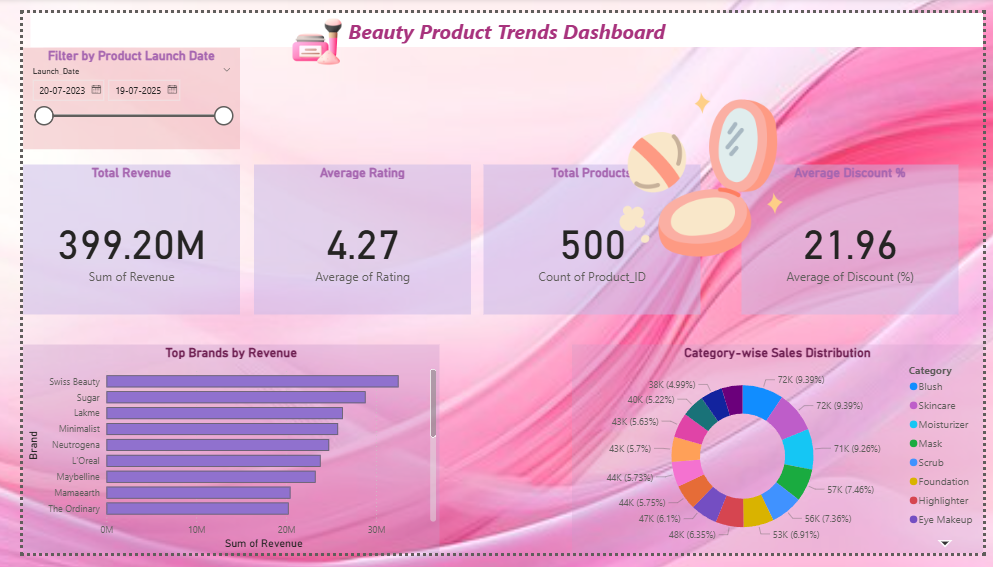

Layout of this report page (visuals, bound fields, positions):
{"tool":"powerbi","page":{"name":"Page 1","canvas":[1280,720],"ordinal":0},"visuals":[{"type":"textbox","box":[9.4,0,1269.9,45.4],"z":1},{"type":"slicer","title":"Filter by Product Launch Date","fields":{"Values":["beauty_products_500.Launch_Date"]},"box":[0,45.4,289.1,136.1],"z":2},{"type":"card","title":"Total Revenue","fields":{"Values":["Sum(beauty_products_500.Revenue)"]},"box":[0,202.2,289.1,200.3],"z":3},{"type":"card","title":"Average Rating","fields":{"Values":["Avg(beauty_products_500.Rating)"]},"box":[308,202.2,289.1,200.3],"z":4},{"type":"card","title":"Total Products","fields":{"Values":["CountNonNull(beauty_products_500.Product_ID)"]},"box":[614.2,202.2,289.1,200.3],"z":5},{"type":"card","title":"Average Discount %","fields":{"Values":["Avg(beauty_products_500.Discount (%))"]},"box":[958.1,202.2,289.1,200.3],"z":6},{"type":"clusteredBarChart","title":"Top Brands by Revenue","fields":{"Category":["beauty_products_500.Brand"],"Y":["Sum(beauty_products_500.Revenue)"]},"box":[0,442.2,555.6,277.8],"z":7},{"type":"donutChart","title":"Category-wise Sales Distribution","fields":{"Category":["beauty_products_500.Category"],"Y":["Sum(beauty_products_500.Monthly_Sales)"]},"box":[731.3,442.2,548,277.8],"z":8},{"type":"image","box":[351.5,0,79.4,75.6],"z":9},{"type":"image","box":[759.7,75.6,289.1,277.8],"z":10}]}

Visuals, with their boxes in screenshot pixels (x1, y1, x2, y2), scaled from the page's 1280x720 canvas onto the 993x567 screenshot:
textbox: left=7, top=0, right=992, bottom=36
"Filter by Product Launch Date" slicer: left=0, top=36, right=224, bottom=143
"Total Revenue" card: left=0, top=159, right=224, bottom=317
"Average Rating" card: left=239, top=159, right=463, bottom=317
"Total Products" card: left=476, top=159, right=701, bottom=317
"Average Discount %" card: left=743, top=159, right=968, bottom=317
"Top Brands by Revenue" clusteredBarChart: left=0, top=348, right=431, bottom=566
"Category-wise Sales Distribution" donutChart: left=567, top=348, right=992, bottom=566
image: left=273, top=0, right=334, bottom=60
image: left=589, top=60, right=814, bottom=278
